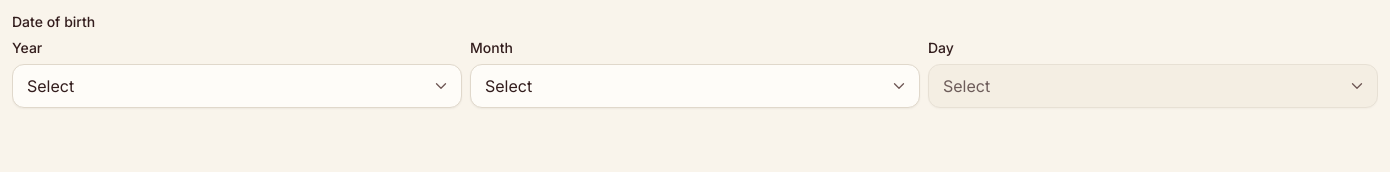
Test: DateOfBirthPicker › disables the Day select until both Year and Month are chosen, then enables it with the clamped range
Expected: the dropdown labelled "Day" is disabled, [928,64,1378,108]
# Only a year: still gated (month missing).
Select "2001" in the dropdown labelled "Year" at (237, 86), box [12,64,462,108]
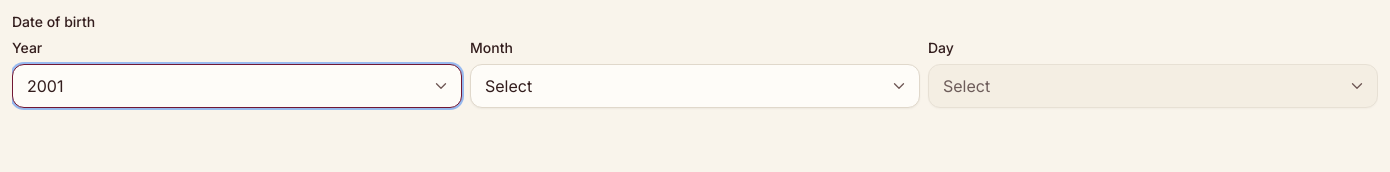
Expected: the dropdown labelled "Day" is disabled, [928,64,1378,108]
# Year + month (Feb 2001, non-leap) → enabled with exactly 28 days.
Select "February" in the dropdown labelled "Month" at (695, 86), box [470,64,920,108]
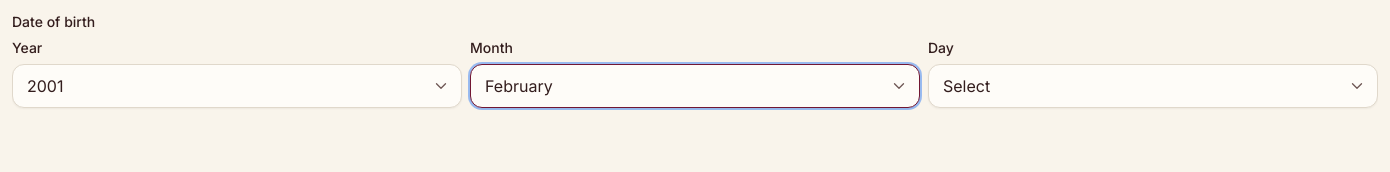
Now the dropdown labelled "Day" is enabled, box [928,64,1378,108]
